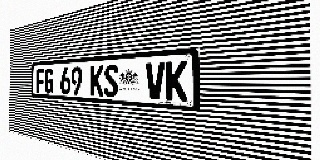6: (60, 67, 71, 94)
9: (71, 66, 82, 95)
F: (36, 68, 44, 93)
G: (44, 68, 53, 93)
K: (166, 60, 188, 101), (90, 65, 104, 96)
S: (104, 64, 118, 97)
V: (146, 62, 165, 100)
